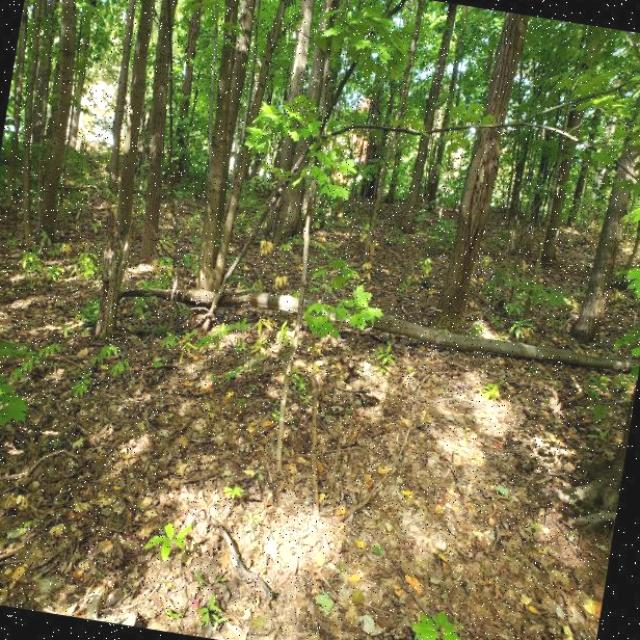fallen_object: (140, 243, 640, 406)
